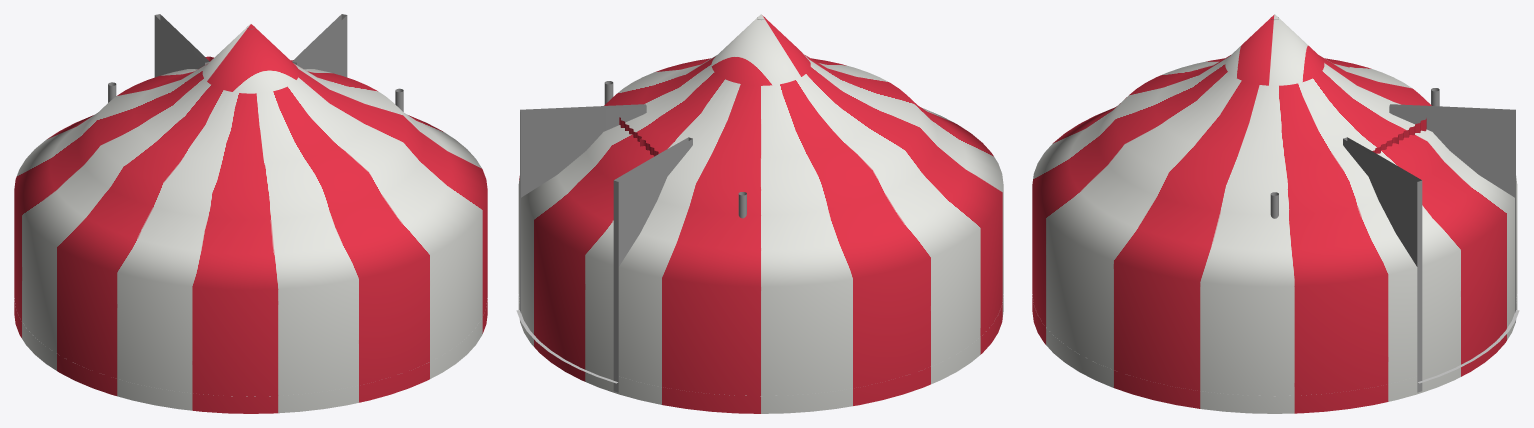
The model's file is Circus_WIP.fbx.
The picture shows the model from 3 angles, left to right: view 1: azimuth 30°, elevation 25°; view 2: azimuth 150°, elevation 25°; view 3: azimuth 270°, elevation 25°; orthographic projection. The views are drawn at different scales.
Visible parts, largest first — view 1: polySurface2, polySurface9; view 2: polySurface2, polySurface9; view 3: polySurface2, polySurface9.
Boxes of the visible parts, x1,y1,x2,y2 form: polySurface2: [14, 24, 487, 413]; polySurface9: [154, 14, 347, 77]; polySurface2: [518, 14, 1003, 413]; polySurface9: [520, 104, 692, 392]; polySurface2: [1032, 14, 1517, 413]; polySurface9: [1343, 104, 1515, 392].
Size of the model in its own units: 2334 by 1580 by 2345.
